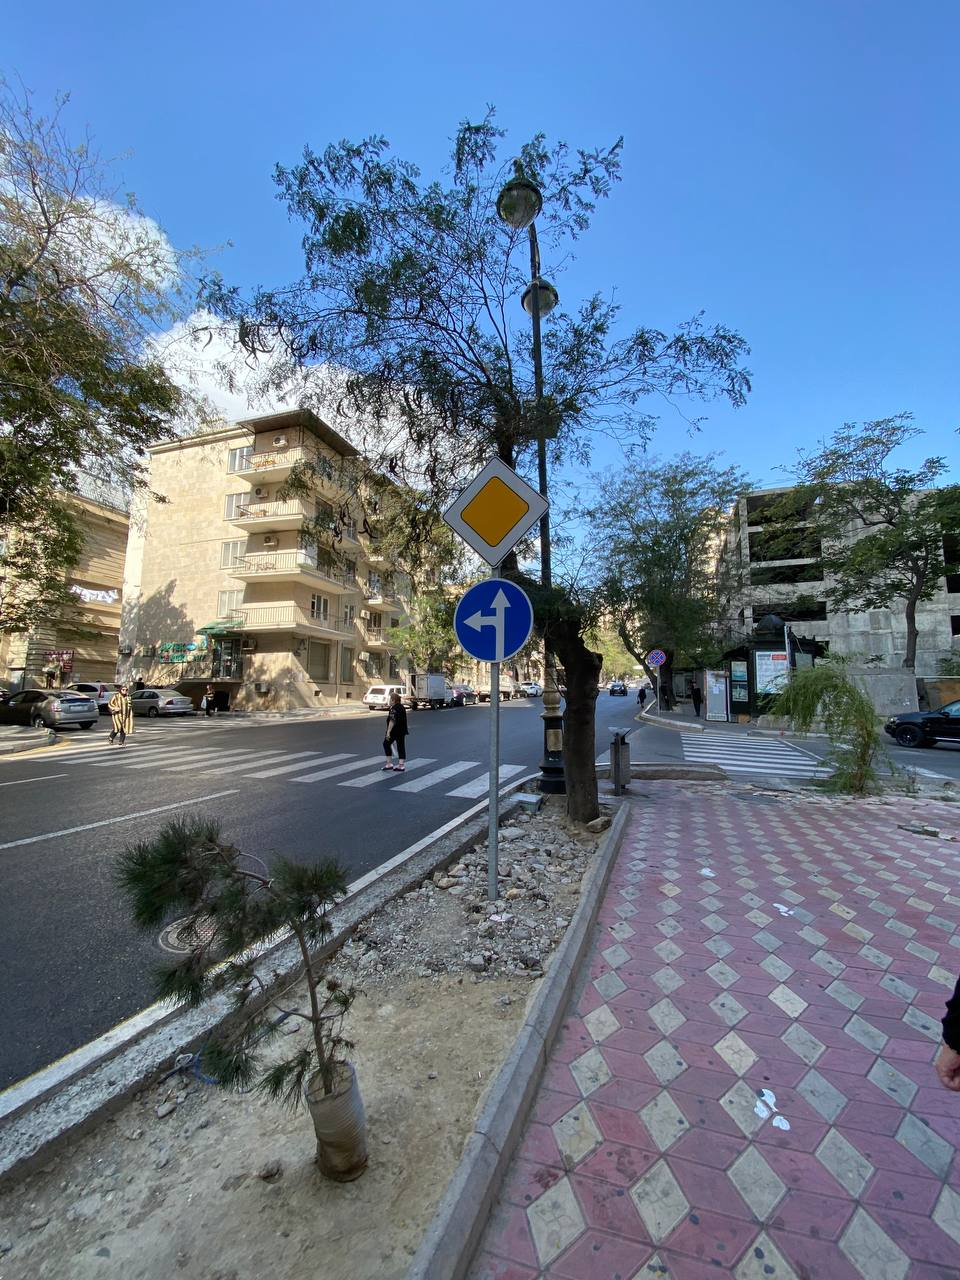Main Road: (442, 456, 551, 568)
No Parking: (648, 649, 666, 666)
Straight or Left: (453, 578, 534, 662)
